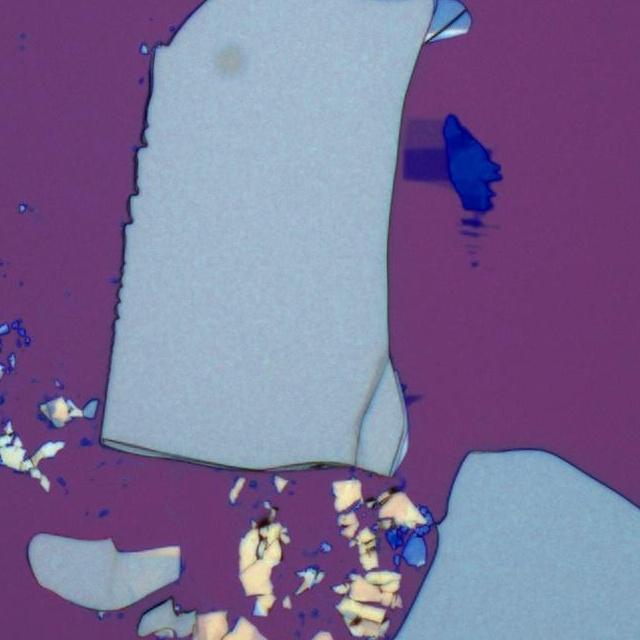monolayer-eWW4: (403, 117, 446, 150)
